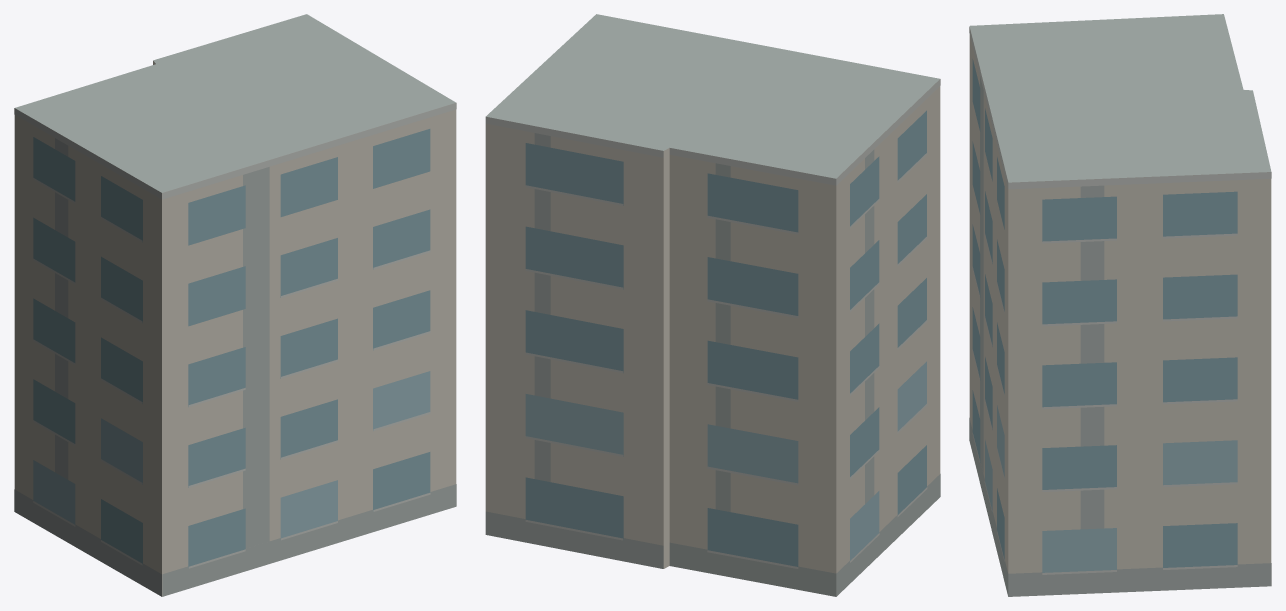
The model's file is survey-upis-32960479.glb.
The picture shows the model from 3 angles, left to right: view 1: azimuth 30°, elevation 25°; view 2: azimuth 150°, elevation 25°; view 3: azimuth 270°, elevation 25°; orthographic projection. The views are drawn at different scales.
Parts seen in each view (by area): view 1: survey-upis-32960479.tmp; view 2: survey-upis-32960479.tmp; view 3: survey-upis-32960479.tmp.
Boxes of the visible parts, x1,y1,x2,y2 form: survey-upis-32960479.tmp: [14, 14, 456, 596]; survey-upis-32960479.tmp: [485, 14, 940, 596]; survey-upis-32960479.tmp: [969, 14, 1271, 596].
Bounding box in the file's own units: 12.84 × 14.7 × 9.72.
